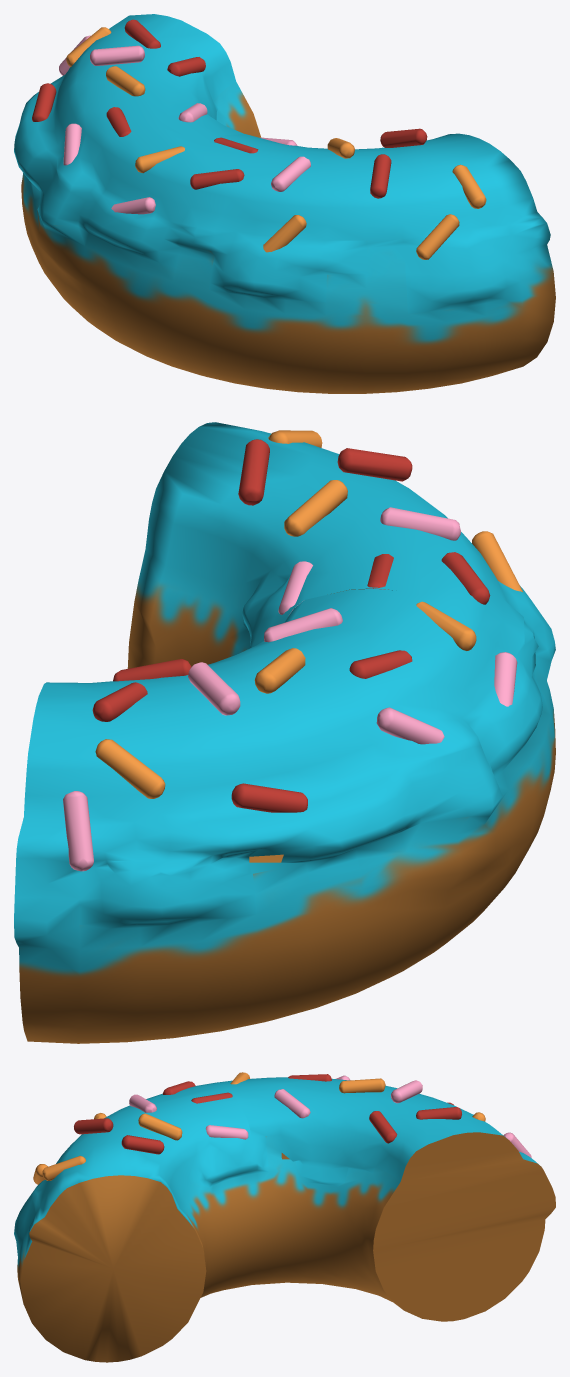
The model's file is donut1_LOD2.fbx.
The picture shows the model from 3 angles, top to bottom: view 1: azimuth 30°, elevation 25°; view 2: azimuth 150°, elevation 25°; view 3: azimuth 270°, elevation 25°; orthographic projection. The views are drawn at different scales.
Parts seen in each view (by area): view 1: pSphere45; view 2: pSphere45; view 3: pSphere45.
Part boxes in pixels (box(x1,y1,x2,y2)): pSphere45: box(14, 14, 555, 393); pSphere45: box(14, 422, 555, 1043); pSphere45: box(14, 1072, 555, 1362).
Size of the model in its own units: 140 by 95.01 by 229.
Materials: 1 (1 with a texture image).
